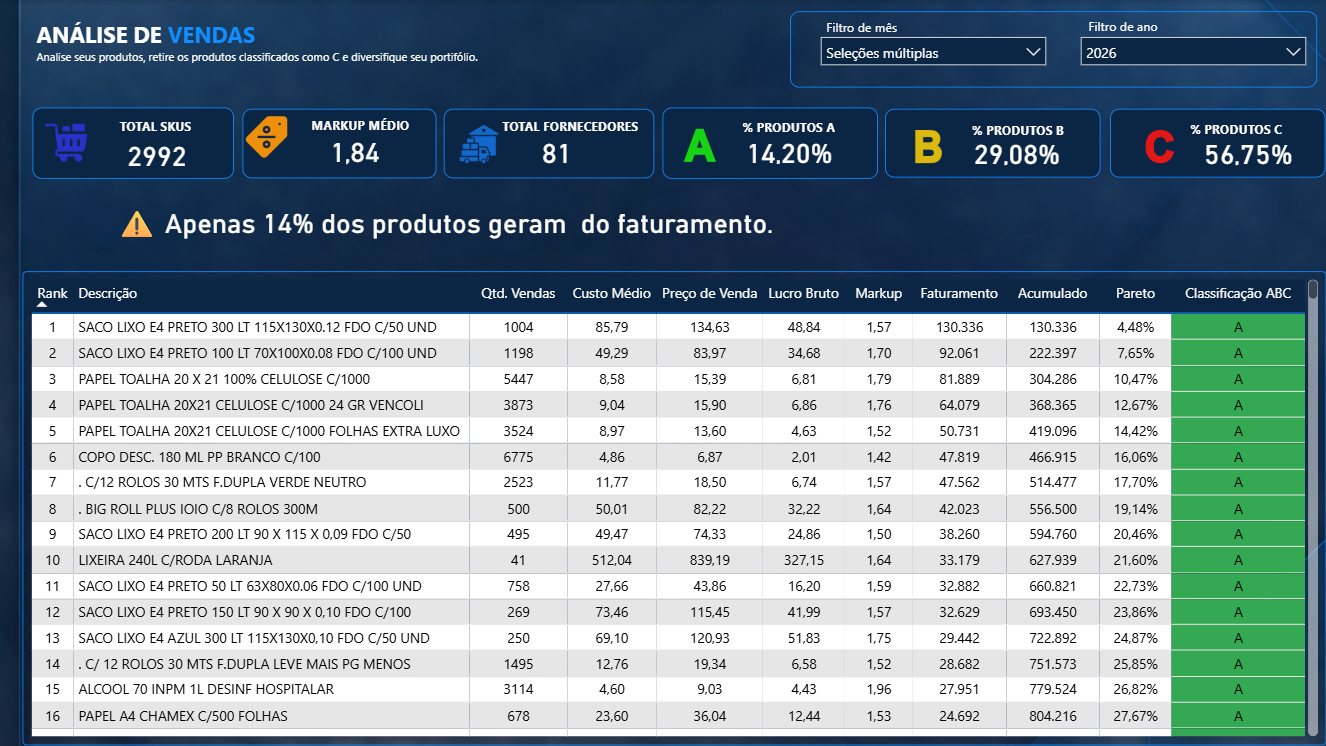

This screenshot's page, from the dashboard's own definition file:
{"tool":"powerbi","page":{"name":"VENDAS","canvas":[1280,720],"ordinal":3},"visuals":[{"type":"textbox","box":[515.2,10.9,756.4,73.6],"z":0},{"type":"tableEx","fields":{"Values":["medidasFaturamento.RankingProdutos","DimProduto.Descrição","medidasFaturamento.Total Vendido","medidasCompras.custoMedio","medidasCompras.preçoMedioVenda","medidasResultado.Lucro Produto","medidasCompras.markup","medidasFaturamento.faturamentoLiquido","medidasFaturamento.TotalAcumuladoVendas","medidasFaturamento.PctAcumuladoVendas","medidasFaturamento.ClassificaçãoABCVendas"]},"box":[21.7,261.8,1258.3,457.2],"z":1000},{"type":"textbox","box":[30.2,13.7,270.5,41.1],"z":2000},{"type":"textbox","box":[30.4,39.8,458.4,39.8],"z":3000},{"type":"textbox","box":[31.4,103.8,194.2,68.8],"z":4000},{"type":"card","title":"Total Spent","fields":{"Values":["medidasCompras.Total Skus"]},"box":[95.4,125,112.5,47.7],"z":5000},{"type":"textbox","box":[63.6,107.8,172.4,33],"z":6000},{"type":"image","box":[31.4,119.4,64.8,41.6],"z":7000},{"type":"textbox","box":[234,105,187,67.6],"z":8000},{"type":"card","title":"Total Spent","fields":{"Values":["medidasCompras.markup"]},"box":[281.3,121.3,123.5,47.7],"z":9000},{"type":"textbox","box":[261.7,106.6,172.4,33],"z":10000},{"type":"textbox","box":[428,105.4,203,67.3],"z":11000},{"type":"card","title":"Total Spent","fields":{"Values":["medidasCompras.totalFornecedores"]},"box":[486.7,121.3,102.7,50.1],"z":12000},{"type":"textbox","box":[470.8,107.8,160.2,33],"z":13000},{"type":"image","box":[428,118.8,68.5,39.1],"z":14000},{"type":"textbox","box":[639.5,104.2,207.9,68.5],"z":15000},{"type":"textbox","box":[854.8,105.4,207.9,66],"z":16000},{"type":"card","title":"Total Spent","fields":{"Values":["medidasFaturamento.Pct_Produtos_A"]},"box":[708,129.8,107.6,33],"z":17000},{"type":"textbox","box":[676.2,109.1,172.4,31.8],"z":18000},{"type":"image","box":[643.2,123.7,64.8,31.8],"z":19000},{"type":"image","box":[234.3,112.7,46.5,40.4],"z":20000},{"type":"card","fields":{"Values":["medidasFaturamento.ResumoABCVendas"]},"box":[69.8,177,718,73.5],"z":21000},{"type":"textbox","box":[1071.8,105.4,207.9,66],"z":22000},{"type":"card","title":"Total Spent","fields":{"Values":["medidasFaturamento.Pct_Produtos_B"]},"box":[928.3,132,107.6,33],"z":23000},{"type":"textbox","box":[896.6,111.2,172.4,31.8],"z":24000},{"type":"image","box":[863.5,125.9,64.8,31.8],"z":25000},{"type":"card","title":"Total Spent","fields":{"Values":["medidasFaturamento.Pct_Produtos_C"]},"box":[1151.3,131,107.6,33],"z":26000},{"type":"textbox","box":[1119.1,110.3,150.4,31.8],"z":27000},{"type":"image","box":[1086.5,124.9,64.8,31.8],"z":28000},{"type":"slicer","fields":{"Values":["Calendario.Ano"]},"box":[1032.7,25.3,238.2,49.2],"z":29000},{"type":"slicer","fields":{"Values":["Calendario.Nome do Mês"]},"box":[781.8,25.3,238.2,49.2],"z":30000},{"type":"textbox","box":[776.9,12.1,109.8,37.4],"z":31000},{"type":"textbox","box":[1029.1,10.9,109.8,37.4],"z":32000},{"type":"slicer","fields":{"Values":["Faturamento.FORNECEDOR"]},"box":[523.6,25.3,237.7,49.5],"z":33000},{"type":"textbox","box":[529.6,12.1,165.3,37.4],"z":34000}]}

Visuals, with their boxes in screenshot pixels (x1, y1, x2, y2), scaled from the page's 1280x720 canvas onto the 1326x746 screenshot:
textbox: detection(534, 11, 1317, 88)
tableEx - medidasFaturamento.RankingProdutos x DimProduto.Descrição: detection(22, 271, 1325, 745)
textbox: detection(31, 14, 312, 57)
textbox: detection(31, 41, 506, 82)
textbox: detection(33, 108, 234, 179)
"Total Spent" card: detection(99, 130, 215, 179)
textbox: detection(66, 112, 244, 146)
image: detection(33, 124, 100, 167)
textbox: detection(242, 109, 436, 179)
"Total Spent" card: detection(291, 126, 419, 175)
textbox: detection(271, 110, 450, 145)
textbox: detection(443, 109, 654, 179)
"Total Spent" card: detection(504, 126, 611, 178)
textbox: detection(488, 112, 654, 146)
image: detection(443, 123, 514, 164)
textbox: detection(662, 108, 878, 179)
textbox: detection(886, 109, 1101, 178)
"Total Spent" card: detection(733, 134, 845, 169)
textbox: detection(701, 113, 879, 146)
image: detection(666, 128, 733, 161)
image: detection(243, 117, 291, 159)
card - medidasFaturamento.ResumoABCVendas: detection(72, 183, 816, 260)
textbox: detection(1110, 109, 1325, 178)
"Total Spent" card: detection(962, 137, 1073, 171)
textbox: detection(929, 115, 1107, 148)
image: detection(895, 130, 962, 163)
"Total Spent" card: detection(1193, 136, 1304, 170)
textbox: detection(1159, 114, 1315, 147)
image: detection(1126, 129, 1193, 162)
slicer - Calendario.Ano: detection(1070, 26, 1317, 77)
slicer - Calendario.Nome do Mês: detection(810, 26, 1057, 77)
textbox: detection(805, 13, 919, 51)
textbox: detection(1066, 11, 1180, 50)
slicer - Faturamento.FORNECEDOR: detection(542, 26, 789, 78)
textbox: detection(549, 13, 720, 51)
